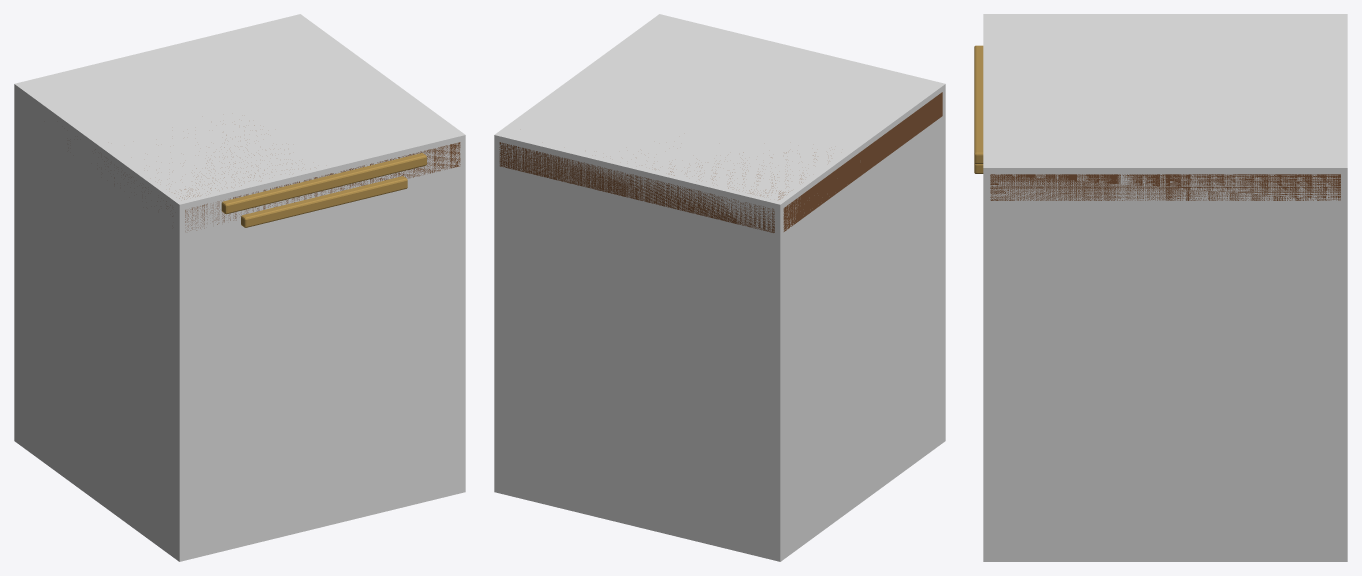
File: side-table_luxury.glb
3 views of the same model, side by side, from view 1: azimuth 30°, elevation 25°; view 2: azimuth 150°, elevation 25°; view 3: azimuth 270°, elevation 25° (orthographic). The views are drawn at different scales.
Visible parts, largest first — view 1: COL_side-table, MESH_TierTrim_01, MESH_TierTrim_02, MESH_Top; view 2: COL_side-table, MESH_Top; view 3: COL_side-table, MESH_Top, MESH_TierTrim_01.
Part boxes in pixels (bbox=[...]): COL_side-table: bbox=[14, 14, 465, 561]; MESH_TierTrim_01: bbox=[221, 153, 426, 214]; MESH_TierTrim_02: bbox=[241, 176, 407, 227]; MESH_Top: bbox=[95, 125, 460, 231]; COL_side-table: bbox=[494, 14, 945, 561]; MESH_Top: bbox=[499, 92, 942, 232]; COL_side-table: bbox=[983, 14, 1347, 561]; MESH_Top: bbox=[990, 174, 1340, 200]; MESH_TierTrim_01: bbox=[974, 45, 983, 163].
Size of the model in its own units: 0.52 by 0.62 by 0.533.
